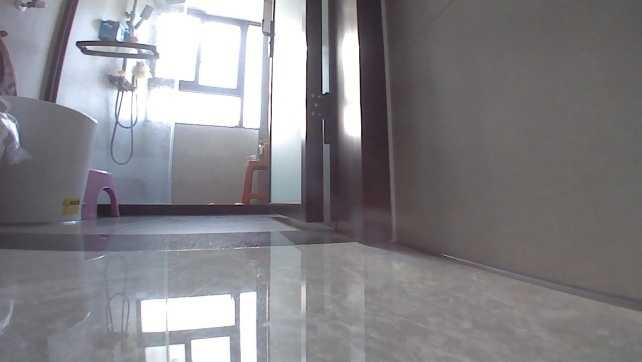door_anno: (260, 0, 331, 229)
plastic_stool: (84, 166, 124, 221), (235, 160, 273, 202)
toilet: (0, 87, 100, 223)
